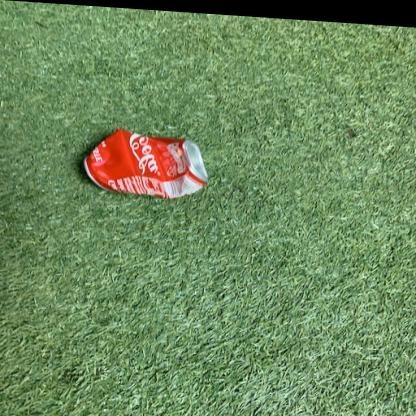trash: (84, 128, 207, 197)
